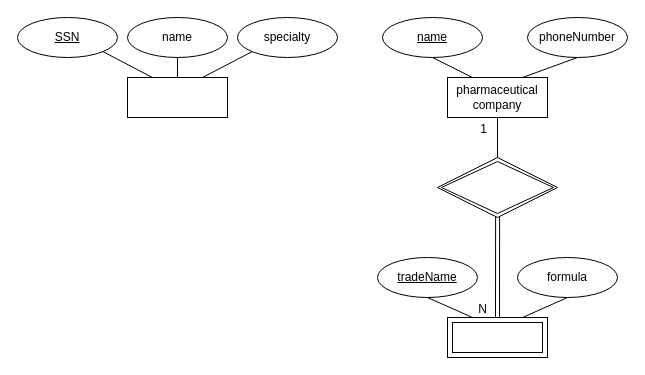
Image size: 645x375. Some labels were removed from this diagram. The shapes that lost their labels are listed below. From the top down, each one's box as (x1, y1, x2, y2) in pixels, then its label:
(126, 76, 228, 118): doctors
(436, 156, 558, 218): manufactures
(446, 316, 548, 358): drug
